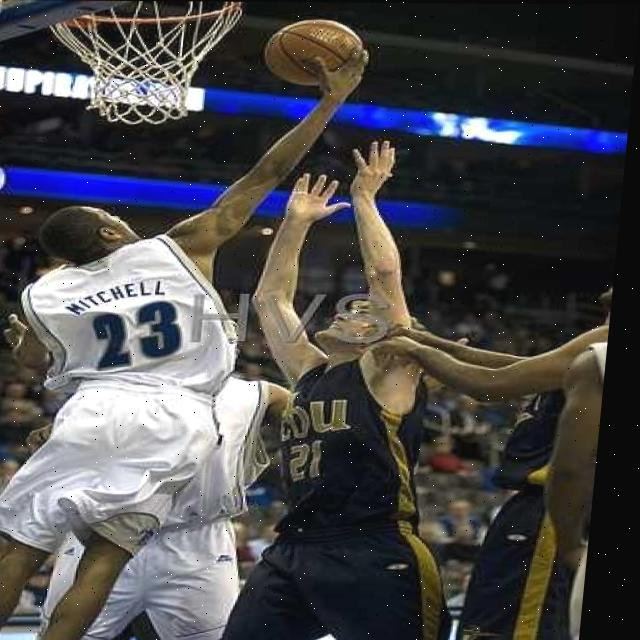basketball: (257, 15, 370, 89)
hoop: (36, 0, 248, 127)
